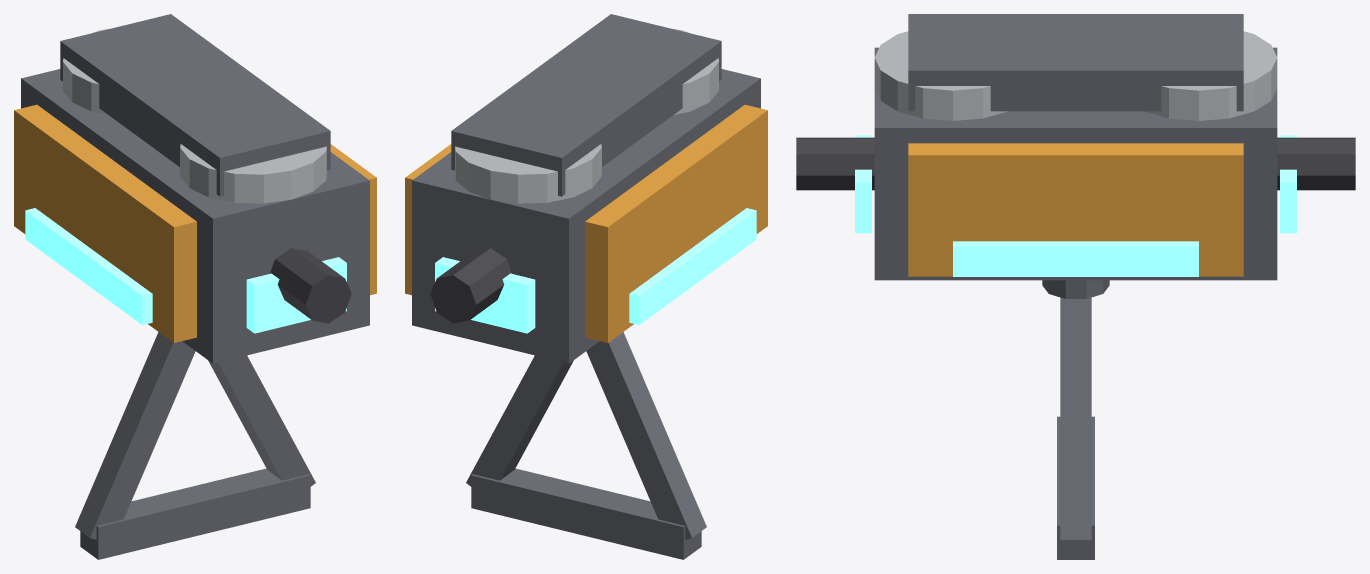
Rendered from zip_trolley.glb.
3 renders of one model, left to right at view 1: azimuth 30°, elevation 25°; view 2: azimuth 150°, elevation 25°; view 3: azimuth 270°, elevation 25°, orthographic. The views are drawn at different scales.
Visible parts, largest first — view 1: Body, Handle, Plates, Neon, Wheels, Cable; view 2: Body, Handle, Plates, Neon, Wheels, Cable; view 3: Body, Plates, Neon, Handle, Wheels, Cable.
Part boxes in pixels (left/top/right/bottom): Body: left=21, top=14, right=369, bottom=363; Handle: left=75, top=332, right=315, bottom=559; Plates: left=14, top=104, right=376, bottom=342; Neon: left=25, top=208, right=346, bottom=333; Wheels: left=63, top=29, right=327, bottom=203; Cable: left=270, top=248, right=351, bottom=323; Body: left=412, top=14, right=760, bottom=363; Handle: left=466, top=332, right=706, bottom=559; Plates: left=405, top=104, right=767, bottom=342; Neon: left=435, top=208, right=756, bottom=333; Wheels: left=454, top=29, right=718, bottom=203; Cable: left=430, top=248, right=511, bottom=323; Body: left=874, top=14, right=1277, bottom=280; Plates: left=908, top=143, right=1243, bottom=276; Neon: left=855, top=135, right=1296, bottom=276; Handle: left=1042, top=280, right=1109, bottom=559; Wheels: left=874, top=31, right=1277, bottom=120; Cable: left=796, top=137, right=1355, bottom=190.
Size of the model in its own units: 0.245 by 0.457 by 0.5.
